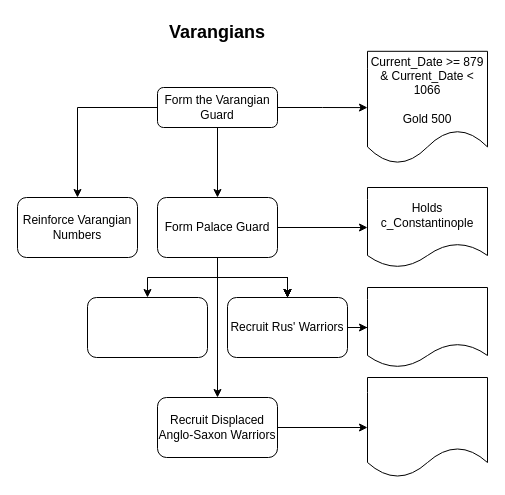
The diagram is 505 pixels wide and 495 high, and some of its shapes have lost their labels. Each missing label, with the box of its shape:
Current_Date > 1066 Holder of k_England != Anglo-Saxon: (366, 376, 488, 478)
Restore the Praetorian Guard: (86, 296, 208, 358)
Russian culture exists: (366, 286, 488, 368)
